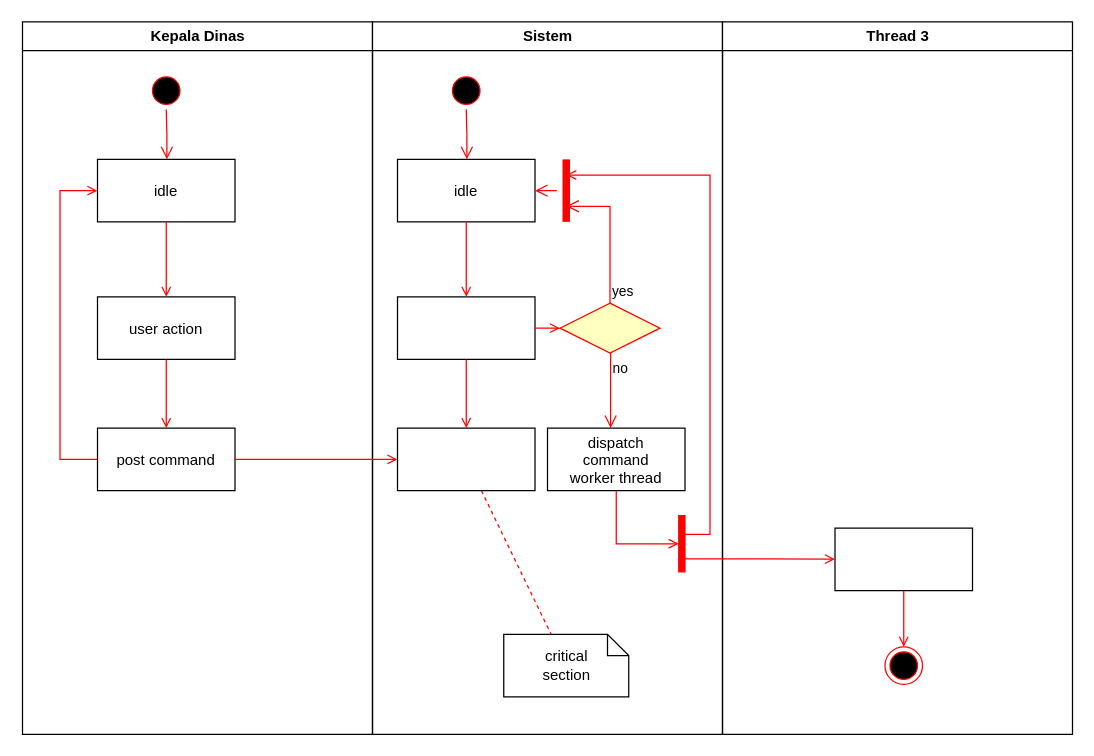
This 1094x756 diagram has some shape labels left out. Here are the shapes that lost their labels. From the top down, the centre of each, then its label:
[465,327]: check for new commands
[609,327]: queue empty
[465,459]: command queue
[903,559]: process command
